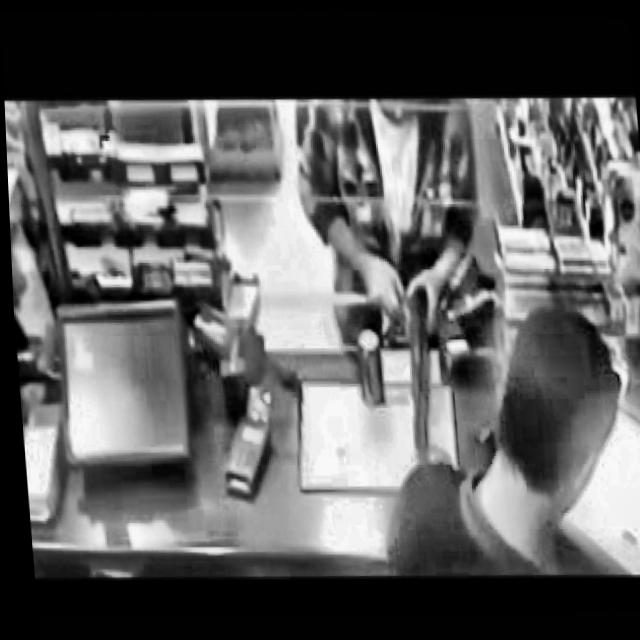robbery: (280, 92, 497, 464)
